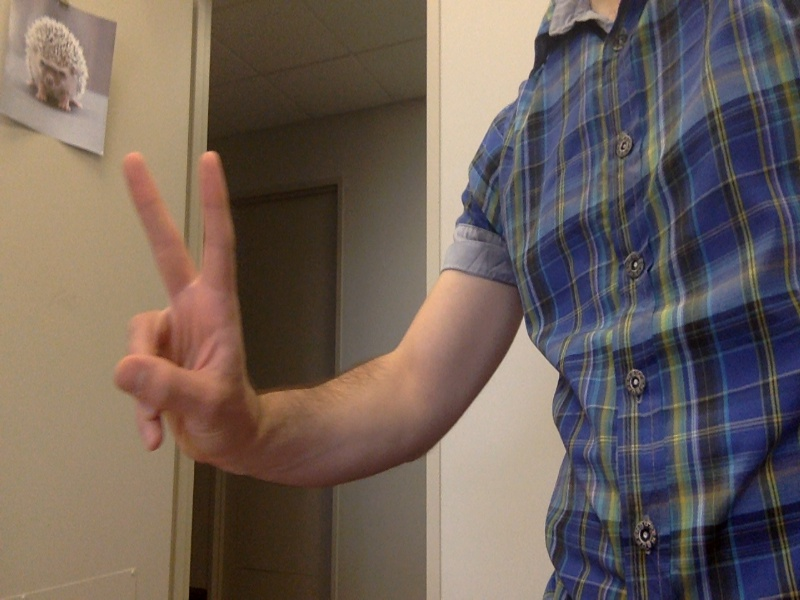2-hand: (113, 149, 271, 480)
